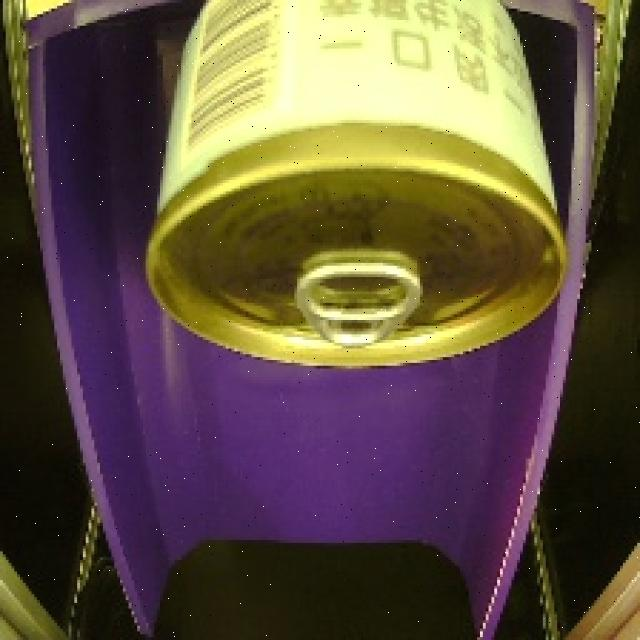metal: (123, 0, 588, 383)
